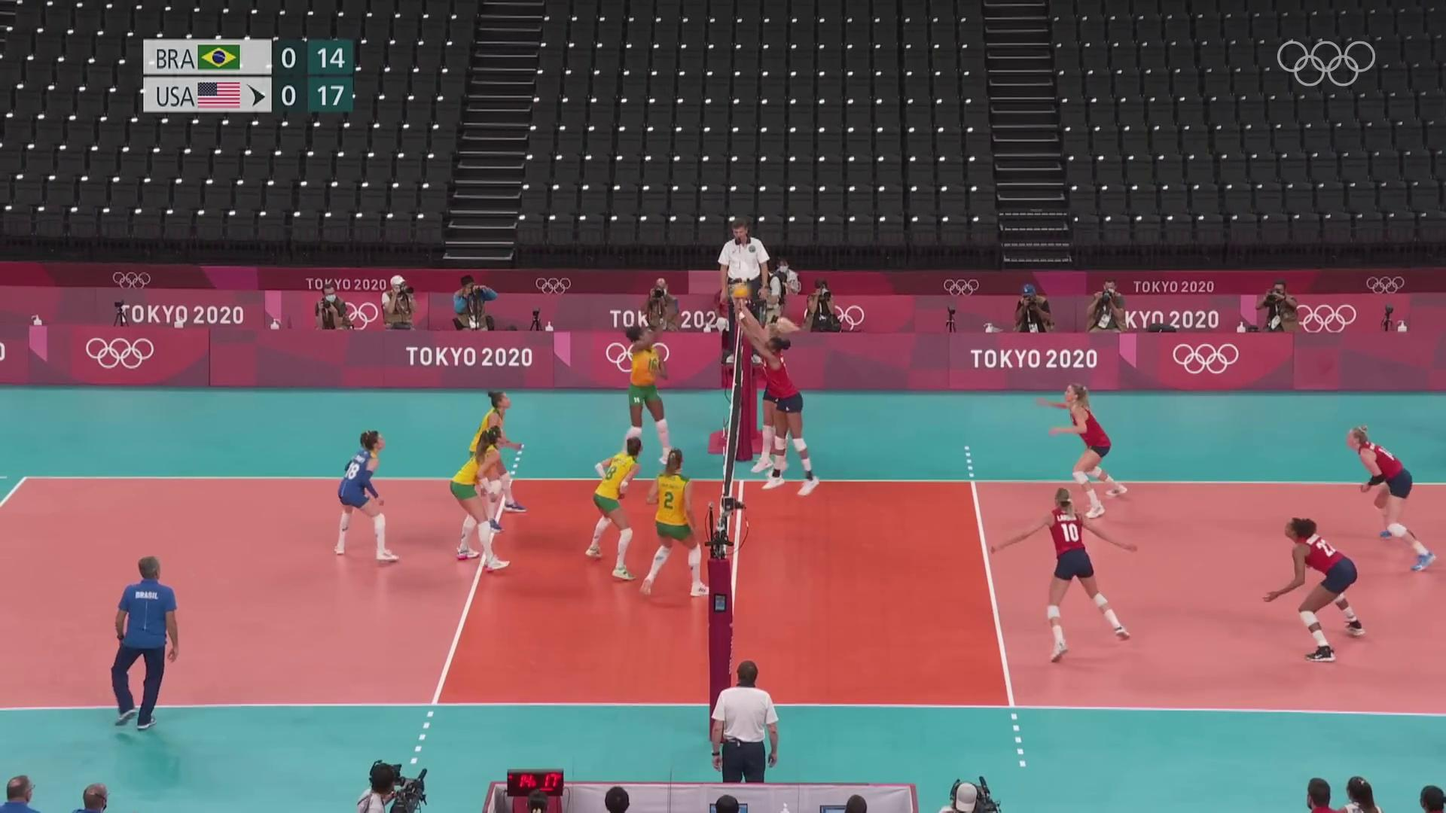player: (998, 490, 1142, 662), (1259, 525, 1366, 664), (1348, 425, 1441, 571), (752, 316, 825, 497), (744, 309, 814, 476), (640, 448, 711, 600), (1050, 388, 1128, 513), (447, 434, 514, 568), (615, 325, 677, 469), (329, 432, 397, 562), (461, 391, 528, 520), (585, 437, 643, 582)
refree: (708, 663, 784, 784), (718, 215, 772, 368)
